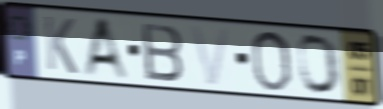A: (80, 16, 134, 84)
B: (139, 20, 186, 84)
K: (42, 13, 80, 77)
O: (296, 32, 343, 97), (249, 29, 293, 93)
V: (187, 23, 233, 89)
